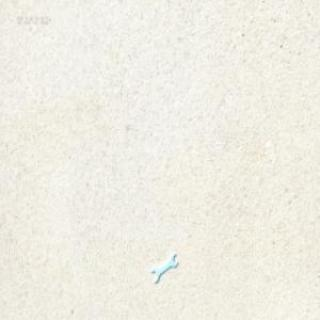Wrenchtrack_idkeyframe: (151, 252, 177, 283)
